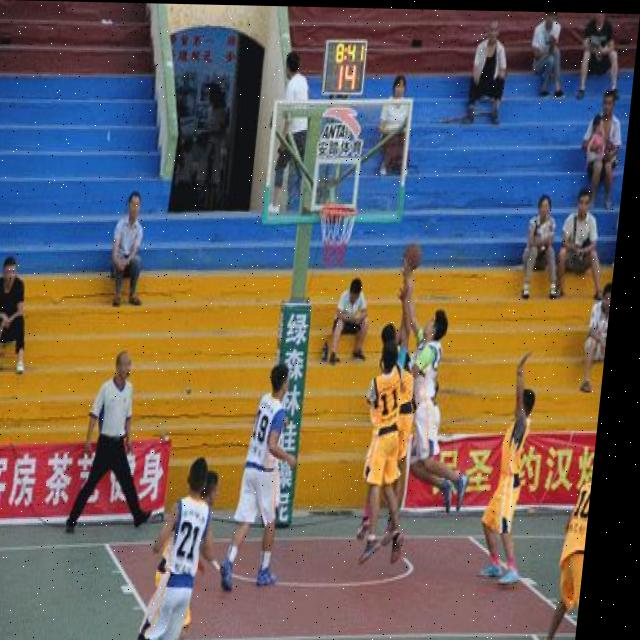basketball: (402, 242, 424, 271)
hoop: (313, 207, 358, 268)
